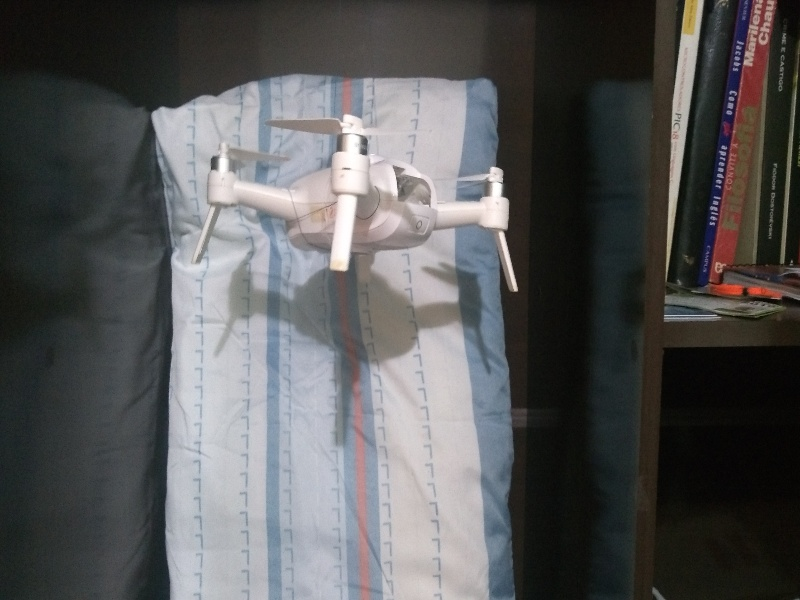drone: (190, 110, 522, 308)
